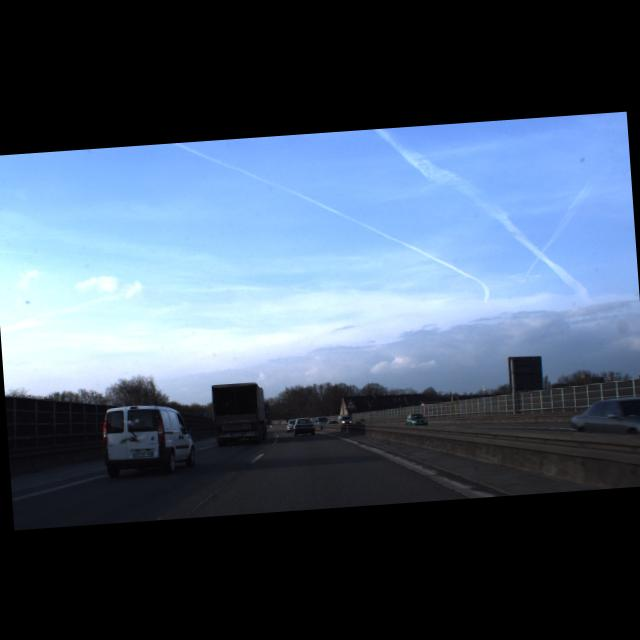danger: (344, 397, 358, 409)
